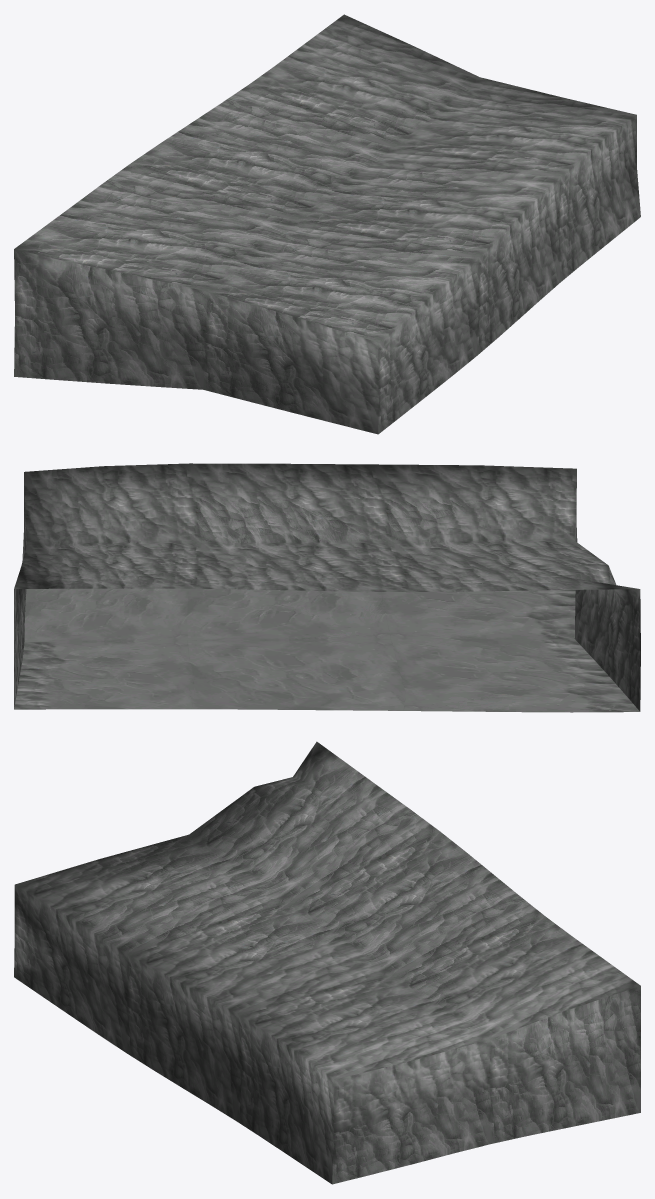
The model's file is SWORDLIGHT20_PS-AREA04_08.fbx.
3 renders of one model, top to bottom at view 1: azimuth 30°, elevation 25°; view 2: azimuth 150°, elevation 25°; view 3: azimuth 270°, elevation 25°, orthographic. The views are drawn at different scales.
Visible parts, largest first — view 1: SWORDLIGHT20_PS-AREA04_08; view 2: SWORDLIGHT20_PS-AREA04_08; view 3: SWORDLIGHT20_PS-AREA04_08.
Boxes of the visible parts, x1,y1,x2,y2 form: SWORDLIGHT20_PS-AREA04_08: (14, 14, 640, 434); SWORDLIGHT20_PS-AREA04_08: (14, 463, 640, 712); SWORDLIGHT20_PS-AREA04_08: (14, 741, 640, 1184).
Size of the model in its own units: 195498 by 37829 by 165321.
Materials: 4 (4 with a texture image).
